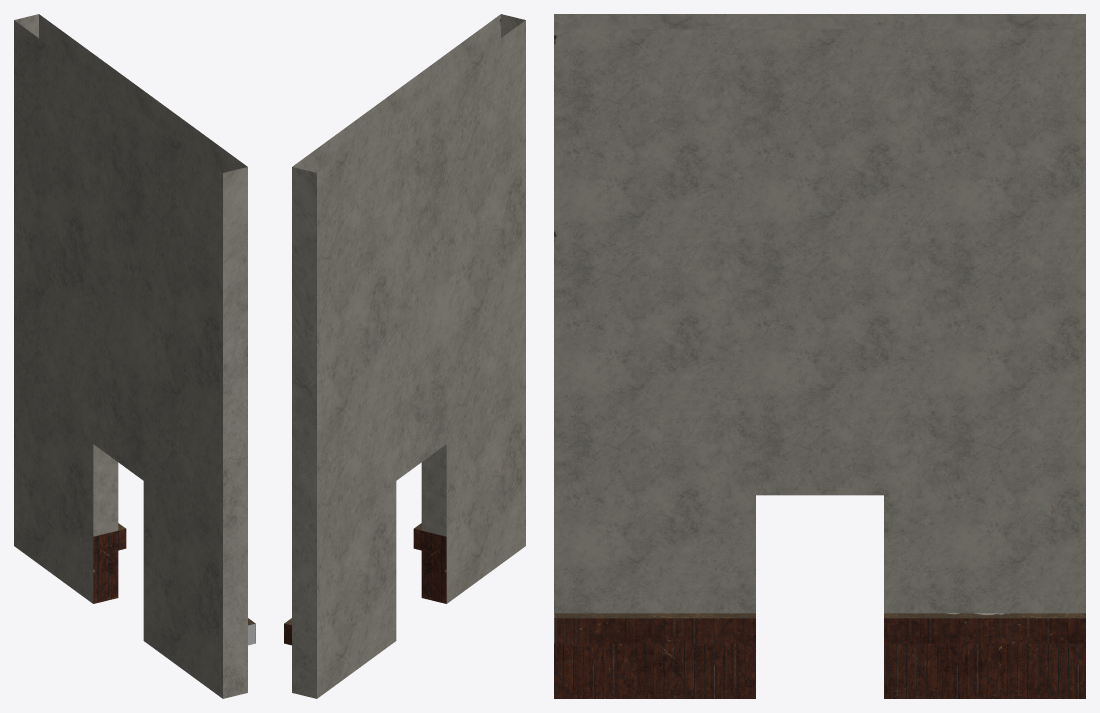
File: SM_DoorwayEve.fbx
3 views of the same model, side by side, from view 1: azimuth 30°, elevation 25°; view 2: azimuth 150°, elevation 25°; view 3: azimuth 270°, elevation 25° (orthographic). The views are drawn at different scales.
Visible parts, largest first — view 1: Plane; view 2: Plane; view 3: Plane.
Boxes of the visible parts, x1,y1,x2,y2 form: Plane: (14,14,255,698); Plane: (284,14,525,698); Plane: (554,14,1085,698).
Size of the model in its own units: 47.76 by 729 by 525.
